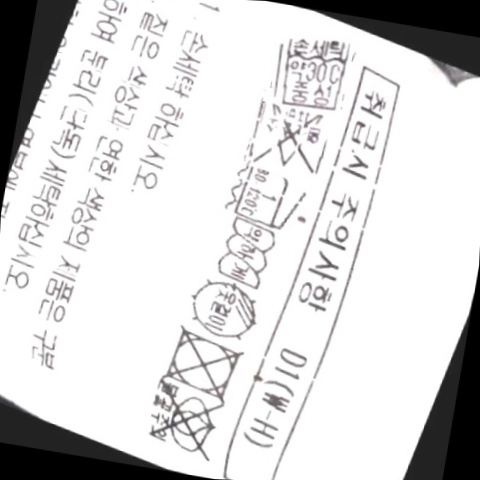DN_tumble_dry: (152, 320, 252, 405)
hand_wash: (265, 28, 360, 117)
iron_low: (227, 160, 308, 235)
line_dry_in_shade: (178, 272, 271, 347)
wring: (210, 214, 281, 293)
